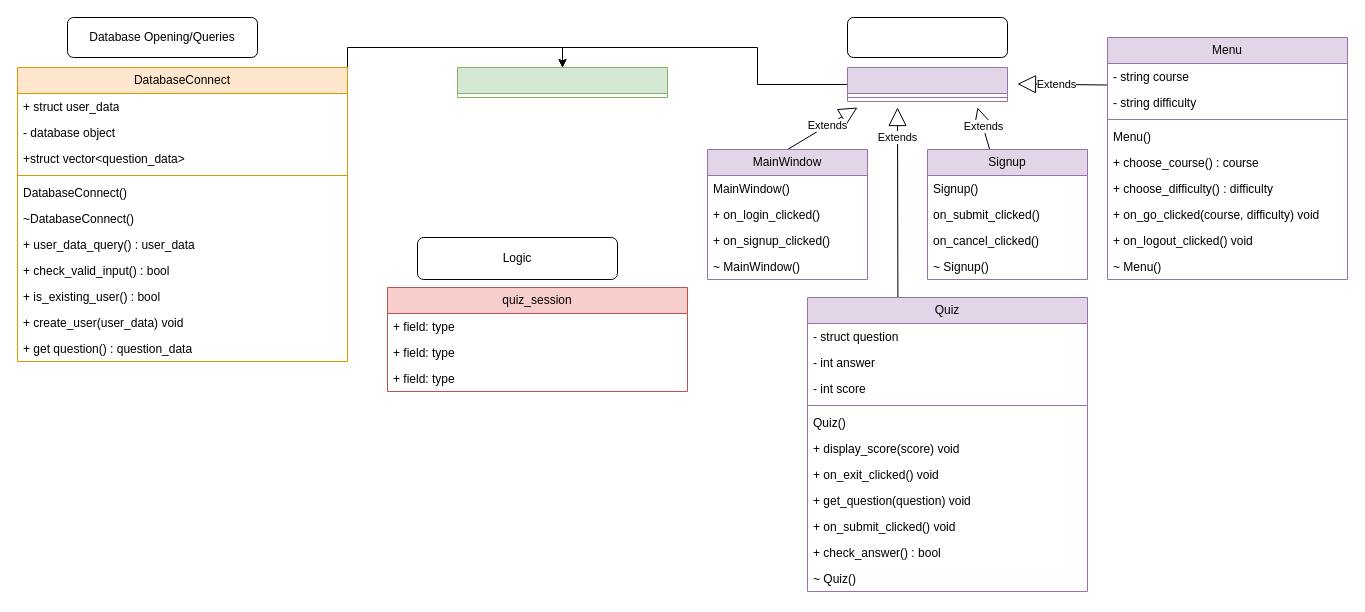
This 1365x612 diagram has some shape labels left out. The centre of each missing label's shape, as x and y in pixels:
"Main" belongs at (x=562, y=82).
"QWidget" belongs at (x=927, y=84).
"Windows" belongs at (x=927, y=37).
